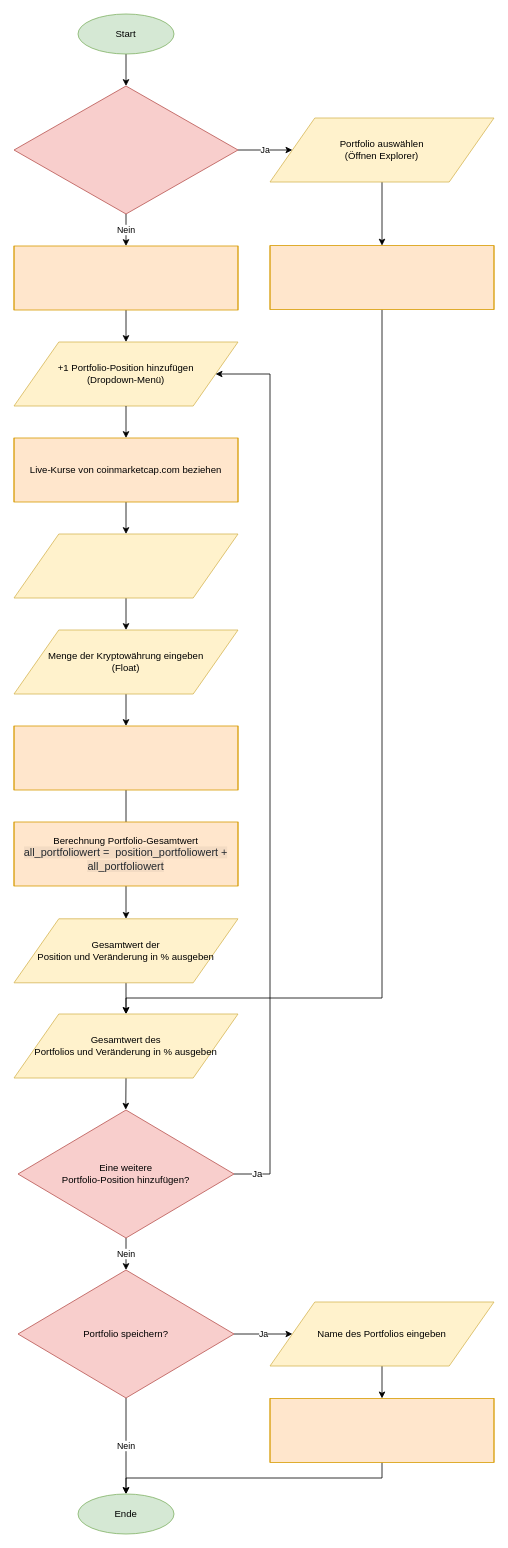
The diagram is 508 pixels wide and 1548 high, and some of its shapes have lost their labels. Each missing label, with the centre of its shape:
"Aktueller Kurs der Kryptowährung ausgeben" goes at (125,565).
"all_portfoliowert = 0 position_portfoliowert = 0" goes at (125,277).
"Berechnung Position-Gesamtwert position_portfoliowert = kurs * menge" goes at (125,757).
"Gespeichertes Portfolio laden?" goes at (125,149).
"Portfolio-Daten in einer JSON-Datei speichern" goes at (381,1430).
"Portfolio-Daten laden" goes at (381,277).
